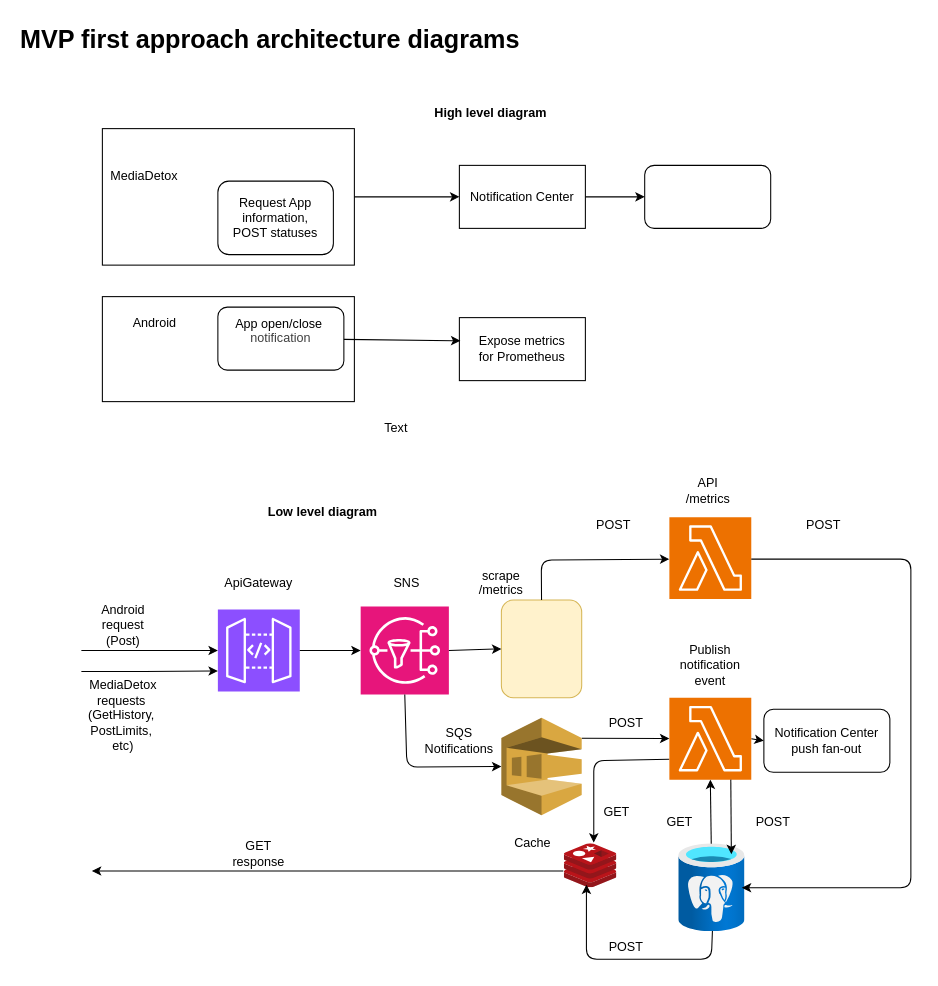
Image size: 938x986. Some labels were removed from this diagram. The shapes that lost their labels are listed below. From the top down, each one's centre as x and y in pixels, then its label:
At point (707, 196): "Push provider FCM / APNs".
At point (541, 648): "Prometheus".
